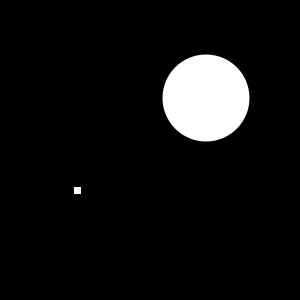circle: (74, 187, 81, 194)
rectangle: (162, 54, 250, 142)
